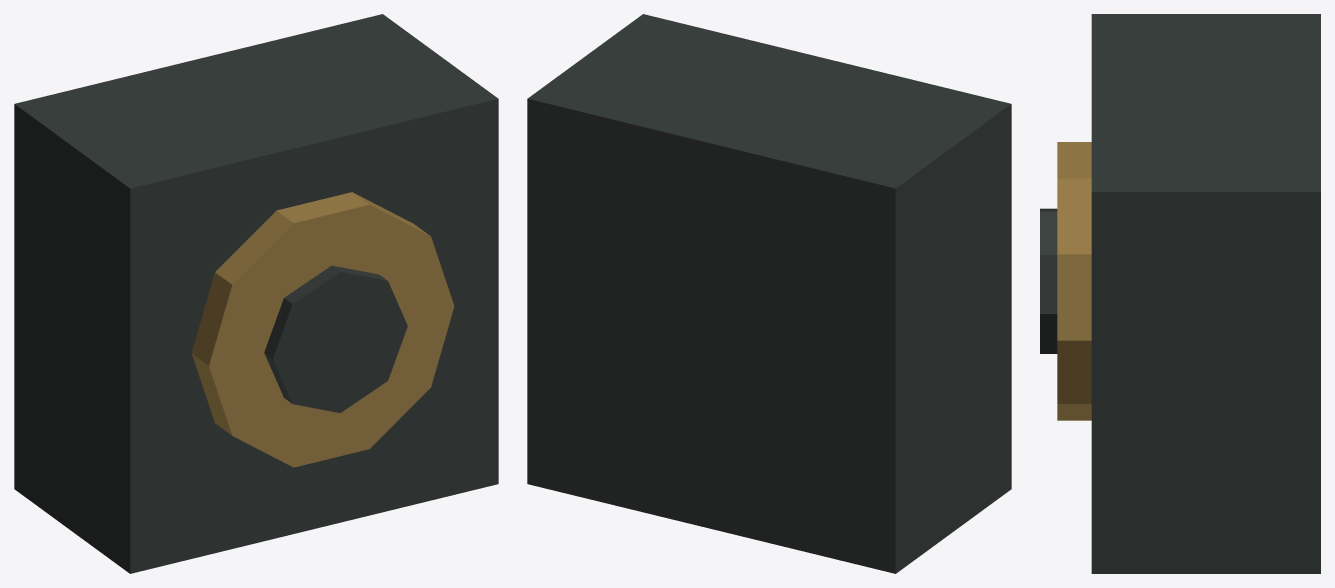
File: FRM_021_E_LODs.fbx
The picture shows the model from 3 angles, left to right: view 1: azimuth 30°, elevation 25°; view 2: azimuth 150°, elevation 25°; view 3: azimuth 270°, elevation 25°; orthographic projection.
Parts seen in each view (by area): view 1: FRM_021_E_LOD0; view 2: FRM_021_E_LOD0; view 3: FRM_021_E_LOD0.
Boxes of the visible parts, x1,y1,x2,y2 form: FRM_021_E_LOD0: (14,14,498,573); FRM_021_E_LOD0: (527,14,1011,573); FRM_021_E_LOD0: (1040,14,1320,573).
Size of what is drawn, in the model's own units: 0.3 by 0.3 by 0.2.
